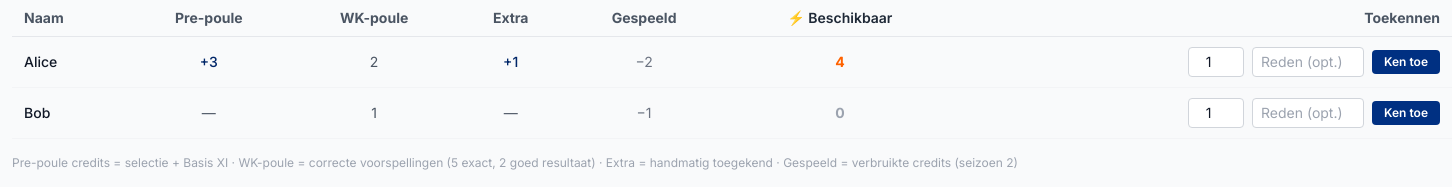
it: AdminFlappyCredits › shows error feedback on failed grant
Expected: the text "Alice" is shown, [12, 36, 126, 88]
Click the button "Ken toe" in the row of "Alice" at (1406, 62), box [1372, 50, 1440, 74]
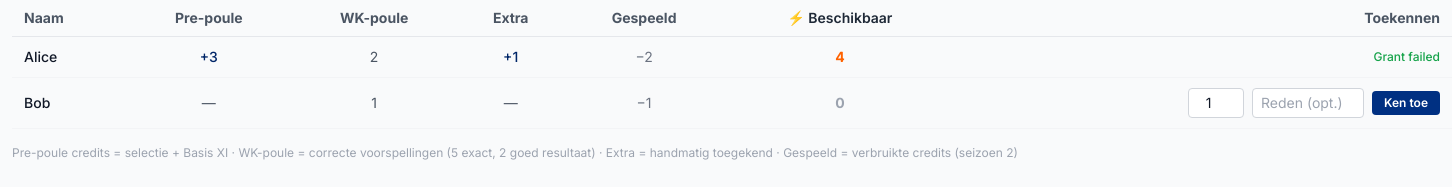
Expected: the text "Grant failed" is shown, [1373, 49, 1440, 64]
